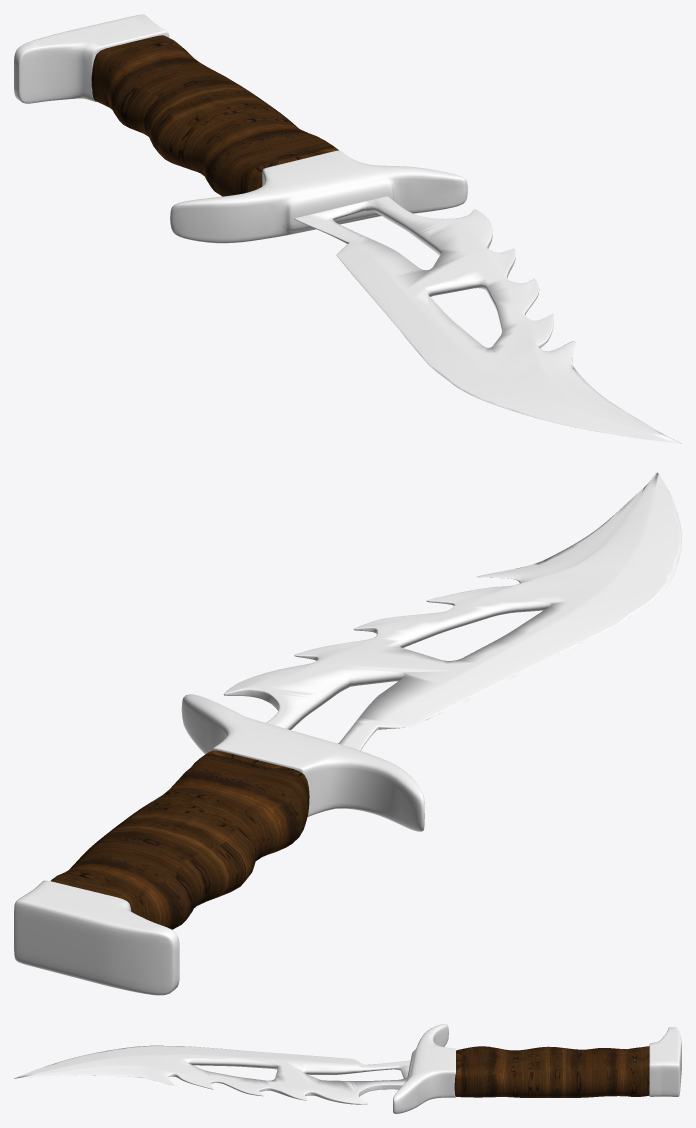
Rendered from zombie_knife_e3f6c8db.glb.
3 views of the same model, one above another, from view 1: azimuth 30°, elevation 25°; view 2: azimuth 150°, elevation 25°; view 3: azimuth 270°, elevation 25° (orthographic). The views are drawn at different scales.
Parts seen in each view (by area): view 1: Plane, Cube.001, Cube, Cube.002; view 2: Plane, Cube.001, Cube.002, Cube; view 3: Plane, Cube.001, Cube, Cube.002.
Part boxes in pixels (x1,y1,x2,y2): Plane: [294, 196, 681, 443]; Cube.001: [91, 35, 338, 196]; Cube: [170, 150, 467, 243]; Cube.002: [14, 14, 169, 103]; Plane: [223, 472, 681, 750]; Cube.001: [51, 750, 309, 929]; Cube.002: [14, 880, 179, 995]; Cube: [181, 694, 424, 831]; Plane: [14, 1045, 410, 1104]; Cube.001: [454, 1046, 649, 1097]; Cube: [393, 1024, 455, 1113]; Cube.002: [649, 1027, 681, 1096].
Bounding box in the file's own units: 0.0922 × 0.0197 × 0.3463.
3 materials, 1 textured.
